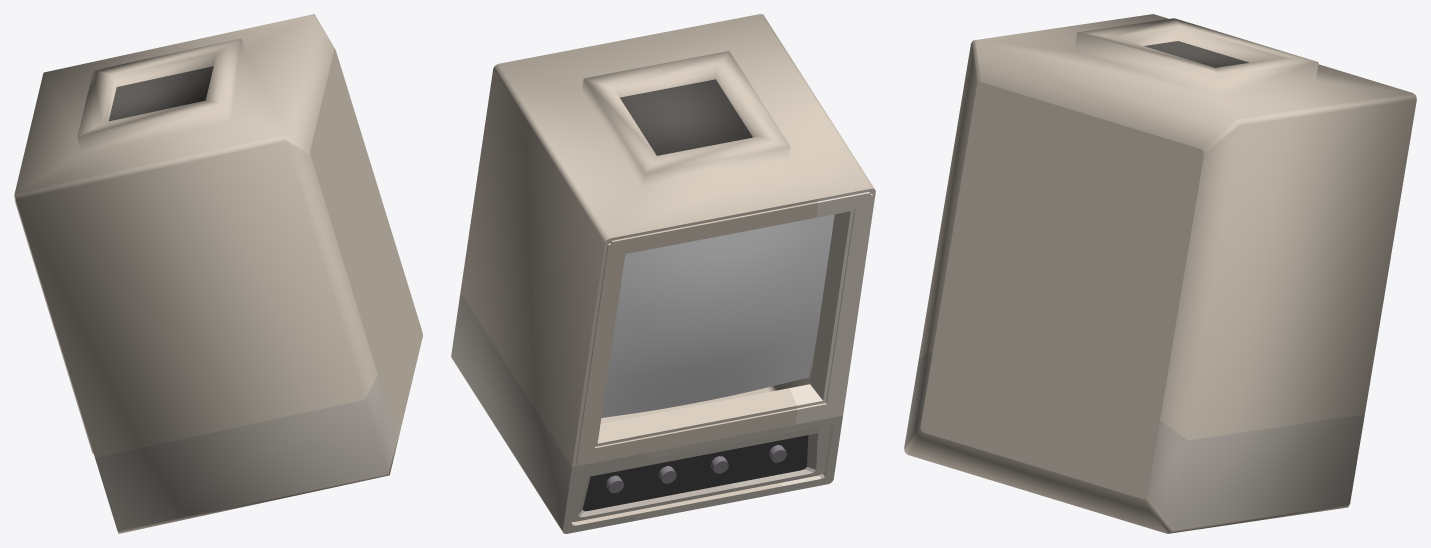
The model's file is Terminal.glb.
3 views of the same model, side by side, from view 1: azimuth 30°, elevation 25°; view 2: azimuth 150°, elevation 25°; view 3: azimuth 270°, elevation 25° (orthographic). The views are drawn at different scales.
Visible parts, largest first — view 1: Terminal; view 2: Terminal, Terminal_Screen.001; view 3: Terminal.
Part boxes in pixels (x1=…): Terminal: x1=14, y1=14, x2=422, y2=533; Terminal: x1=451, y1=14, x2=875, y2=533; Terminal_Screen.001: x1=601, y1=214, x2=834, y2=417; Terminal: x1=904, y1=14, x2=1416, y2=533.
Bounding box in the file's own units: 2.19 × 2.05 × 2.11.
Materials: 1 (1 with a texture image).
